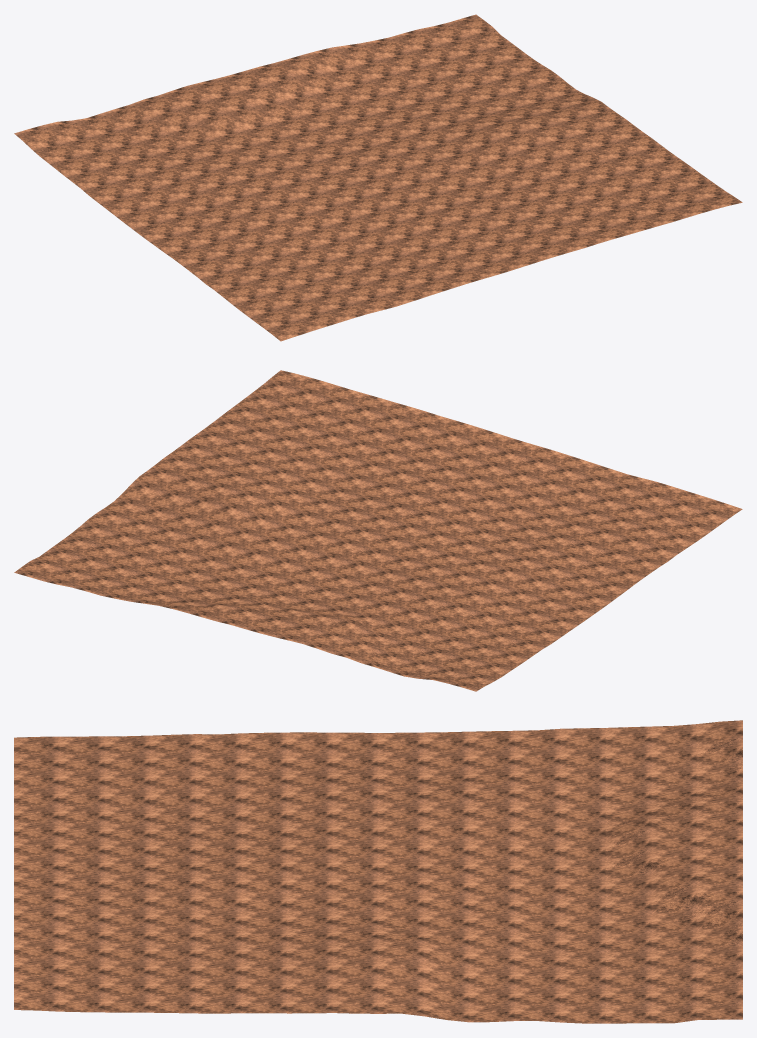
File: terrain_05_15.dae
3 renders of one model, top to bottom at view 1: azimuth 30°, elevation 25°; view 2: azimuth 150°, elevation 25°; view 3: azimuth 270°, elevation 25°, orthographic. The views are drawn at different scales.
Parts seen in each view (by area): view 1: terrain_05_15-node; view 2: terrain_05_15-node; view 3: terrain_05_15-node.
Part boxes in pixels (left/top/right/bottom): terrain_05_15-node: left=14, top=14, right=742, bottom=341; terrain_05_15-node: left=14, top=370, right=742, bottom=691; terrain_05_15-node: left=14, top=720, right=742, bottom=1023.
Size of the model in its own units: 128 by 128 by 6.97.
1 material, 1 textured.
